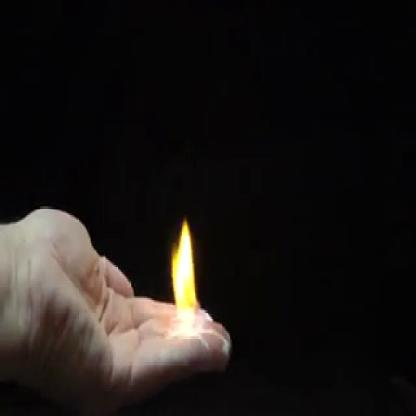fire: (166, 215, 206, 336)
